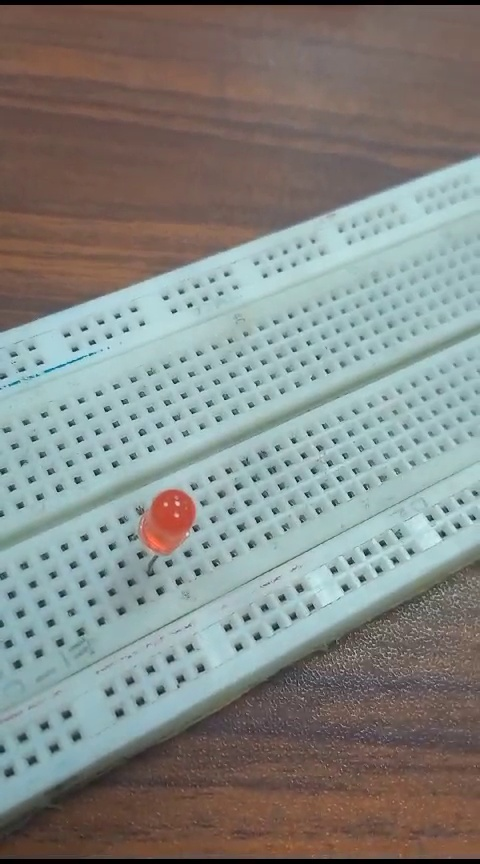LED: (131, 483, 195, 579)
